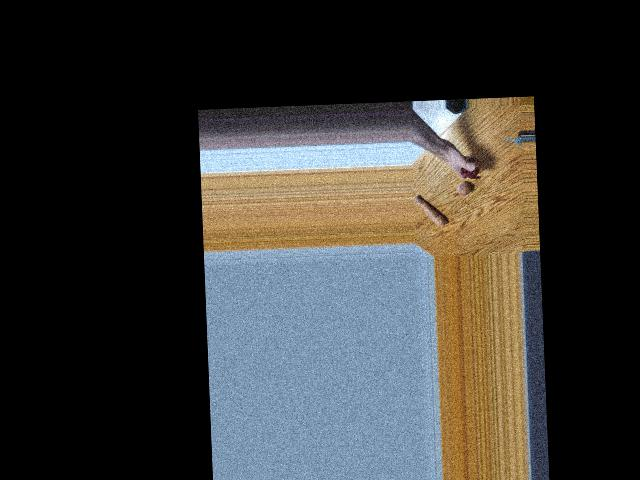onion: (458, 158, 478, 179)
